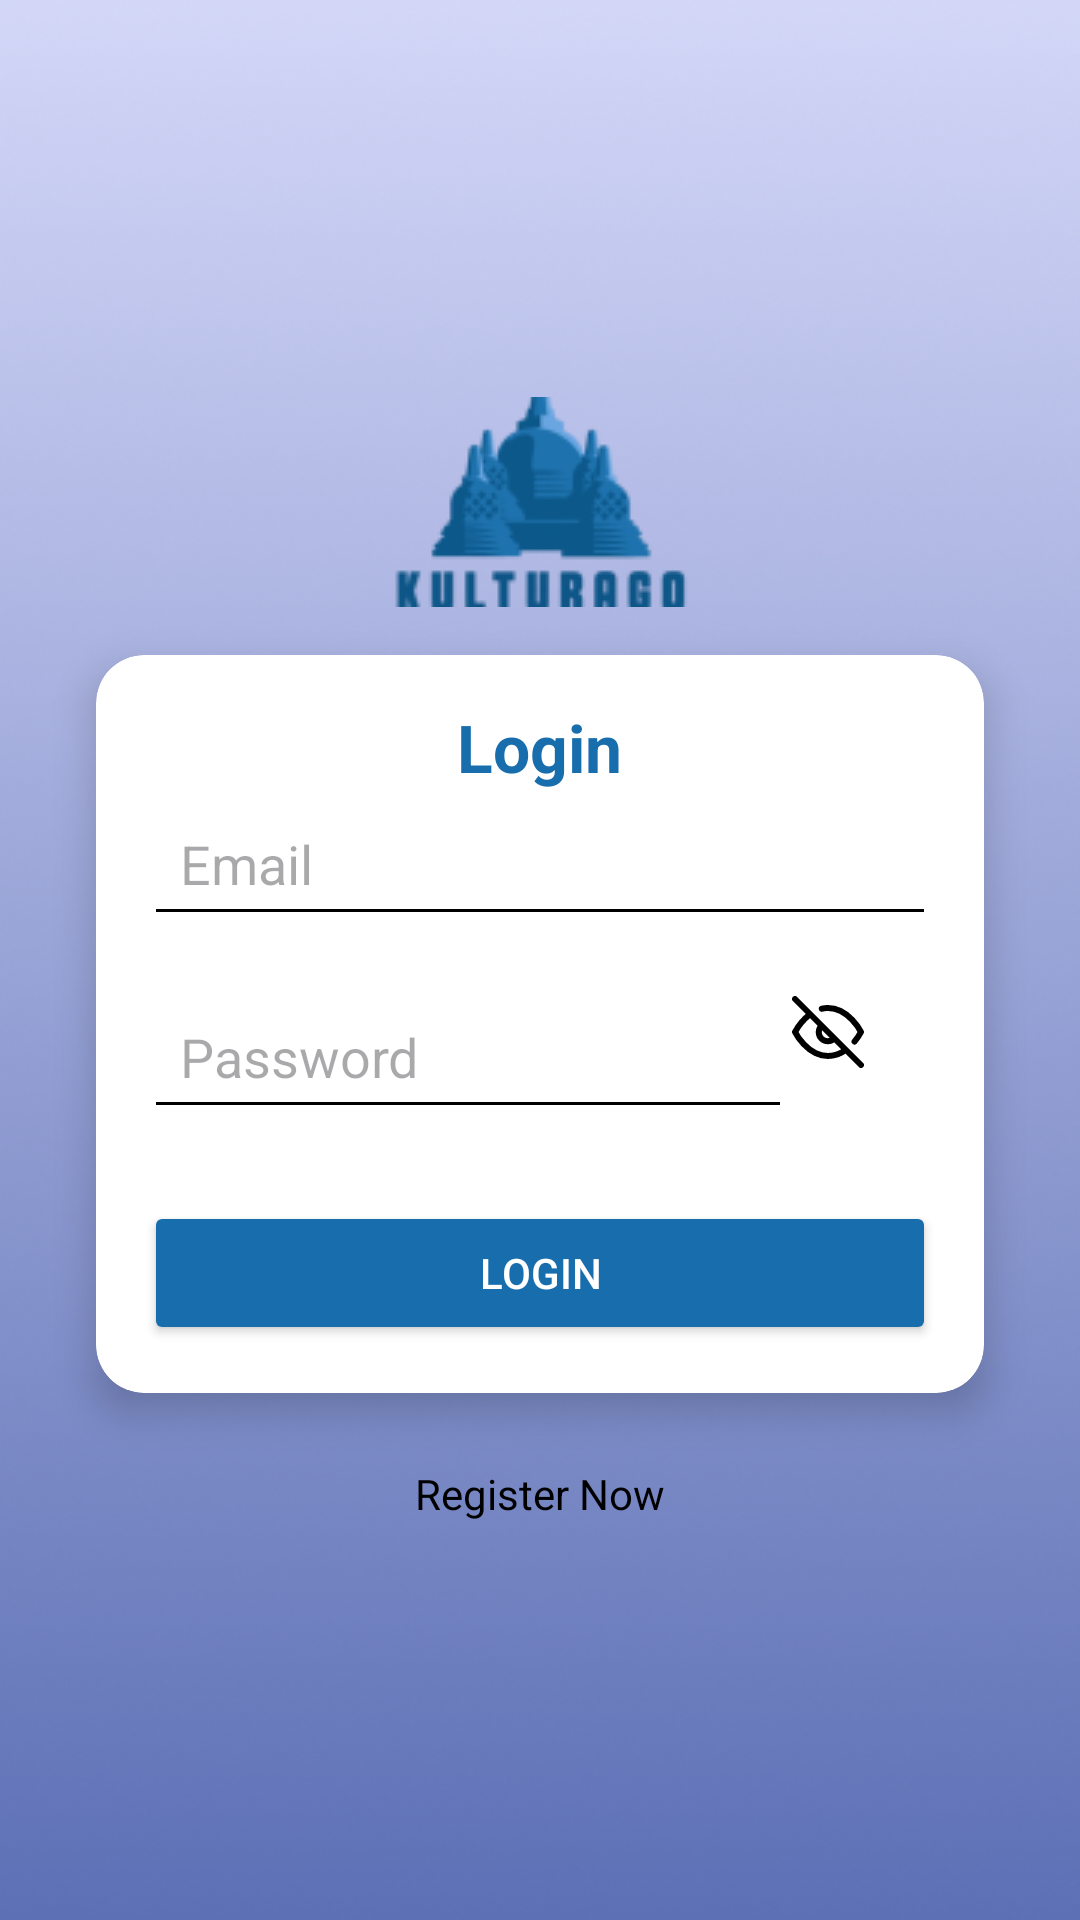

Icon bounding boxes for this 1080px x 1920px phone screenshot, format (x1, y1, x2, y2):
eye off: (792, 996, 864, 1068)
